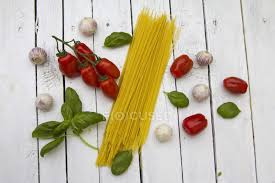Onion: (77, 14, 97, 36), (29, 47, 47, 66)
